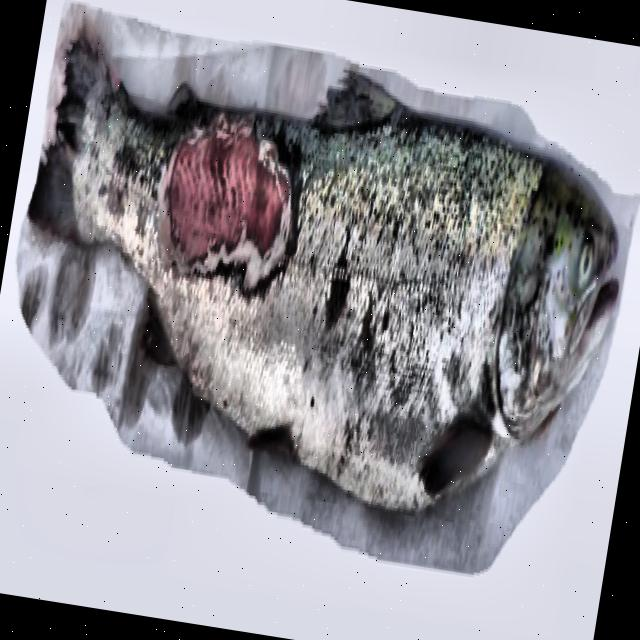mild_red: (78, 73, 547, 506)
wound: (167, 131, 291, 260)
